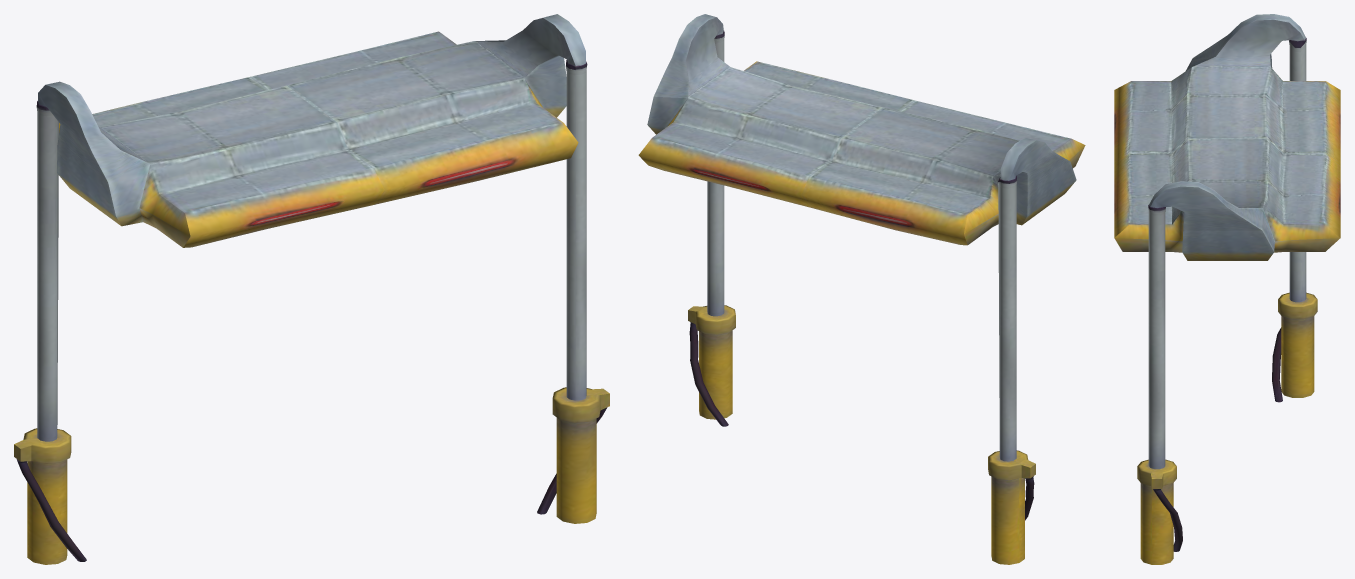
The model's file is Hazard_CrusherNew.fbx.
The picture shows the model from 3 angles, left to right: view 1: azimuth 30°, elevation 25°; view 2: azimuth 150°, elevation 25°; view 3: azimuth 270°, elevation 25°; orthographic projection. The views are drawn at different scales.
Visible parts, largest first — view 1: pCylinder15, pCylinder14; view 2: pCylinder15, pCylinder14; view 3: pCylinder15, pCylinder14.
Boxes of the visible parts, <box> form: pCylinder15: <box>38,14,585,247</box>; pCylinder14: <box>14,60,609,564</box>; pCylinder15: <box>638,14,1085,245</box>; pCylinder14: <box>688,30,1035,564</box>; pCylinder15: <box>1114,14,1340,260</box>; pCylinder14: <box>1137,38,1317,564</box>.
Size of the model in its own units: 9.92 by 9.15 by 5.
